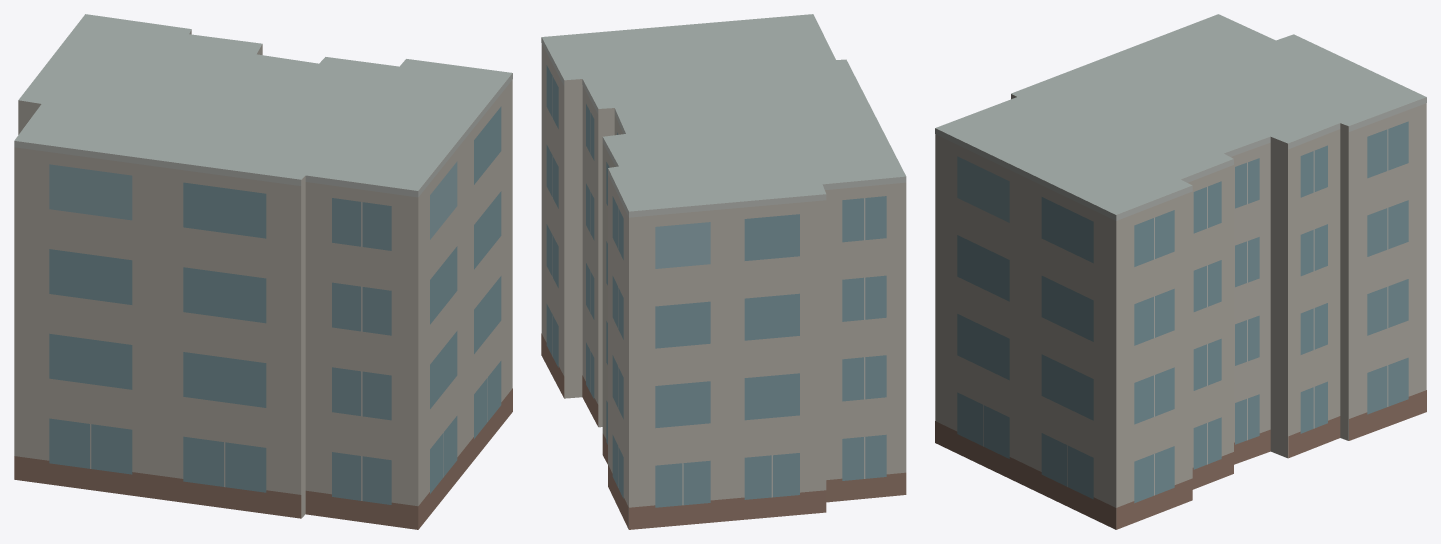
File: survey-upis-32803316.glb
3 views of the same model, side by side, from view 1: azimuth 30°, elevation 25°; view 2: azimuth 150°, elevation 25°; view 3: azimuth 270°, elevation 25° (orthographic). The views are drawn at different scales.
Parts seen in each view (by area): view 1: survey-upis-32803316.tmp; view 2: survey-upis-32803316.tmp; view 3: survey-upis-32803316.tmp.
Boxes of the visible parts, x1,y1,x2,y2 form: survey-upis-32803316.tmp: (14, 14, 512, 529); survey-upis-32803316.tmp: (541, 14, 906, 529); survey-upis-32803316.tmp: (935, 14, 1426, 529).
Size of the model in its own units: 17.62 by 12.86 by 18.21.
